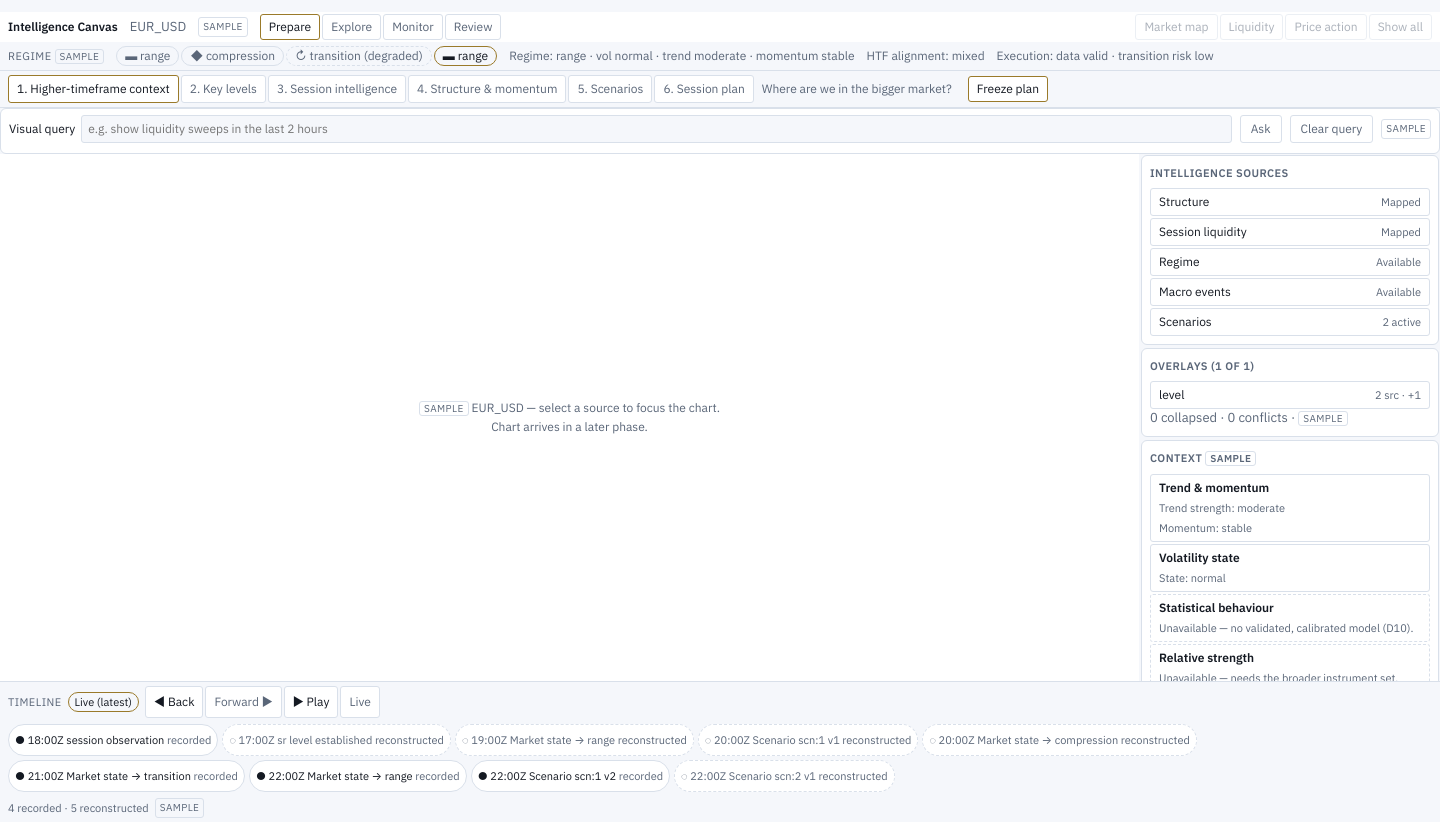
Scenario: F20 panel + Canvas › Canvas mounts it in every mode with the 'sample' cue
Click the button "Prepare".
click(290, 27)  # box [260, 14, 320, 40]
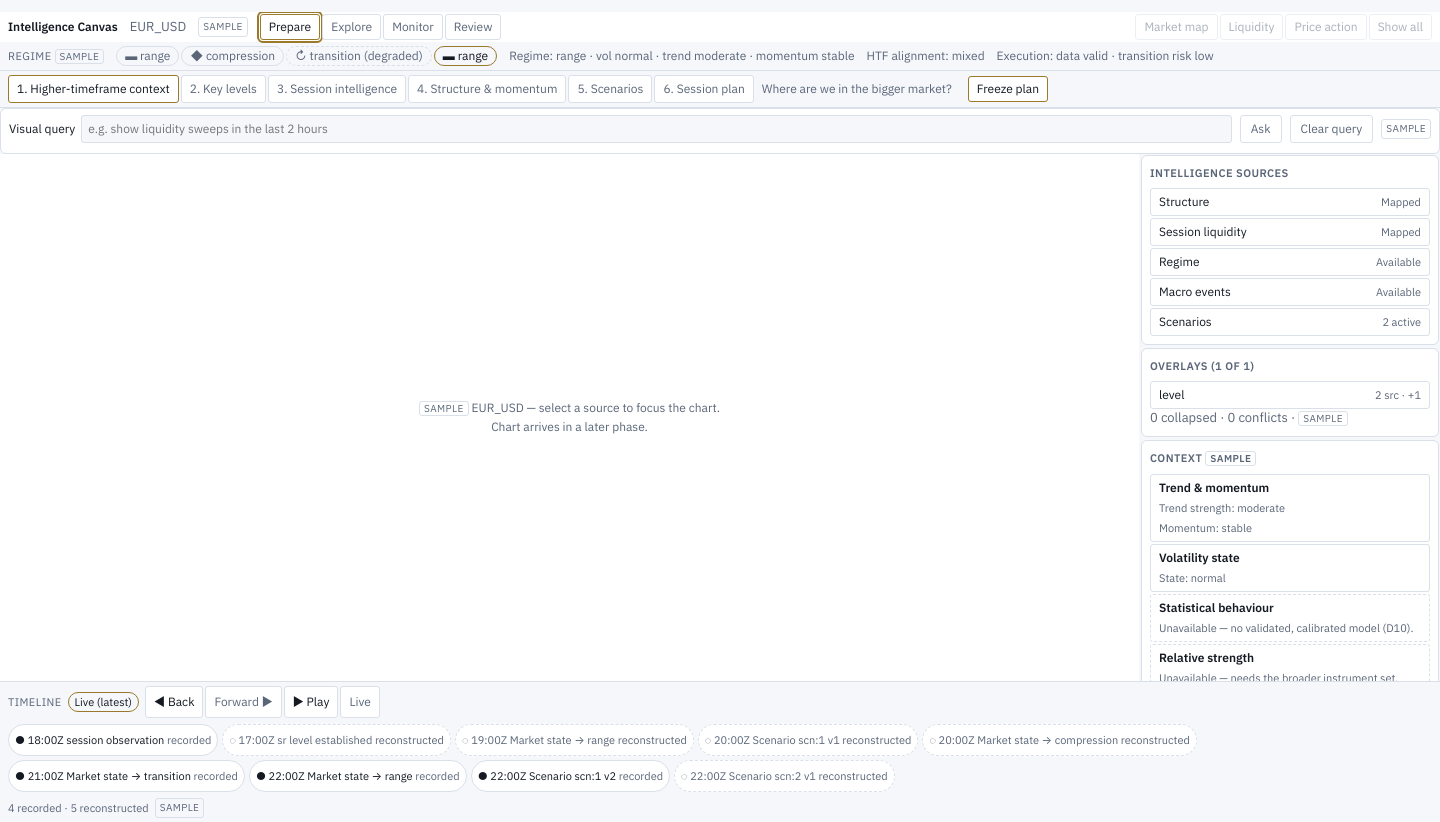
Click the button "Explore".
click(352, 27)  # box [322, 14, 381, 40]
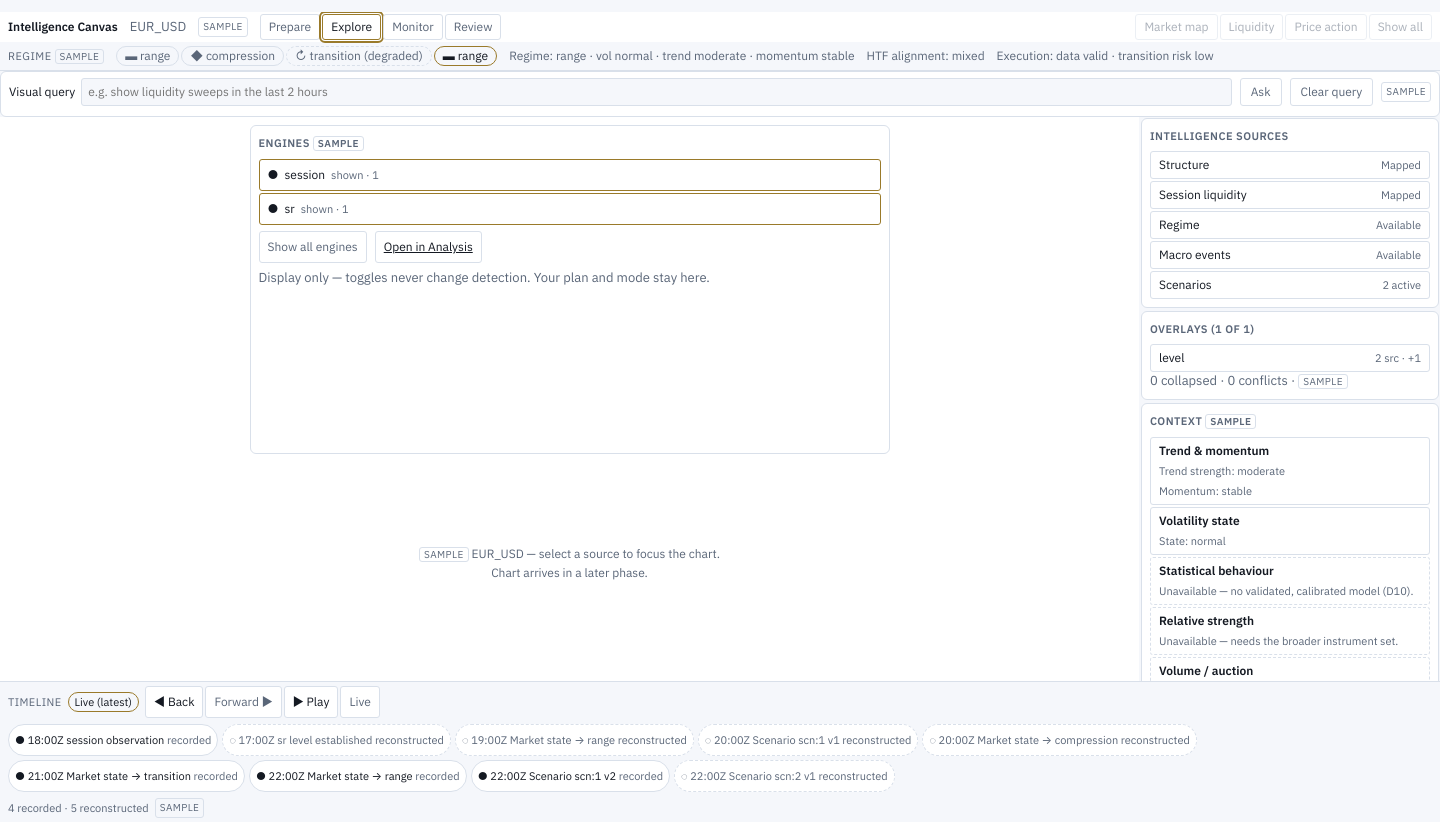
Click the button "Monitor".
click(413, 27)  # box [383, 14, 443, 40]
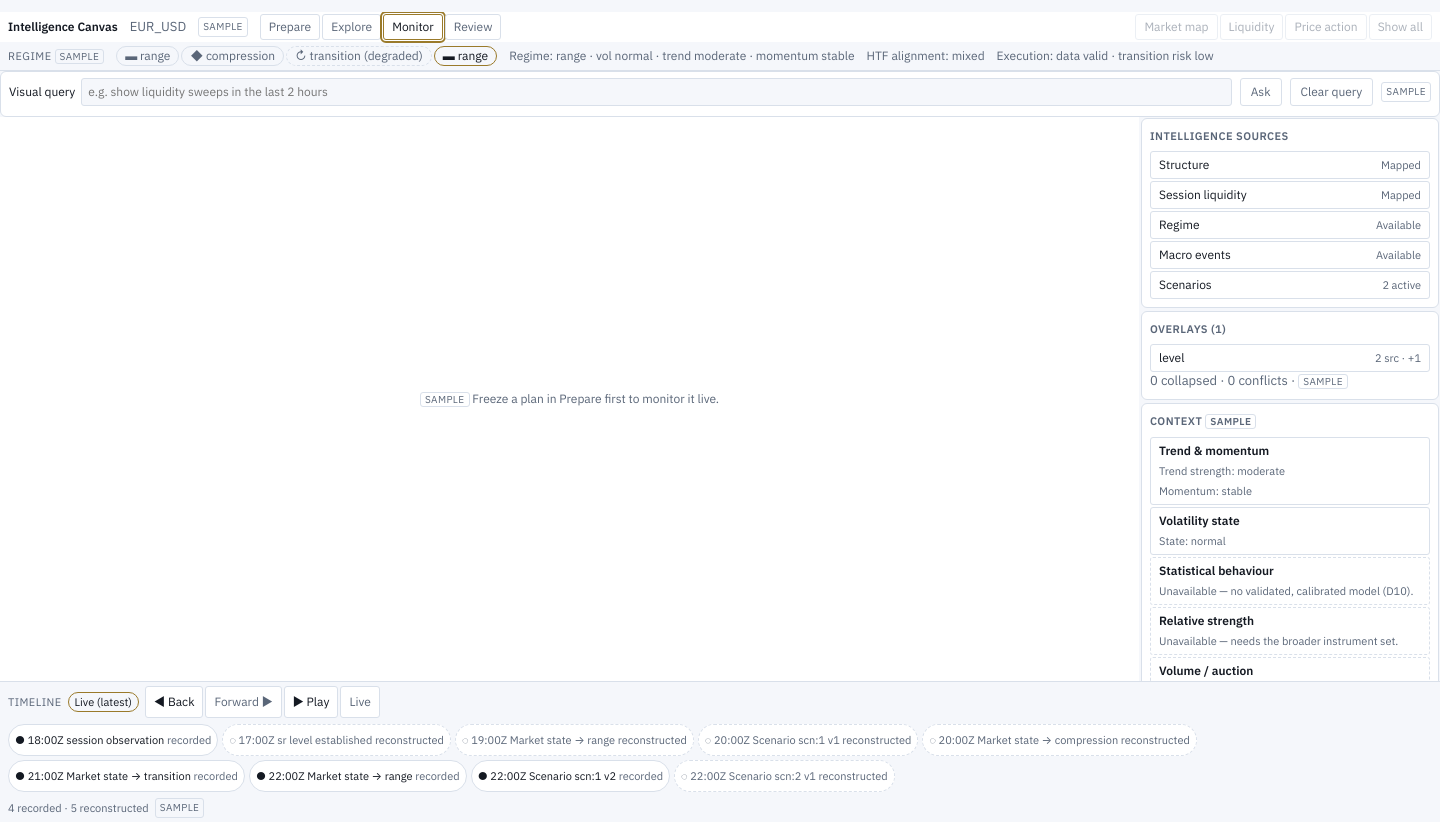
Click the button "Review".
click(473, 27)  # box [445, 14, 501, 40]
(page scrolled)
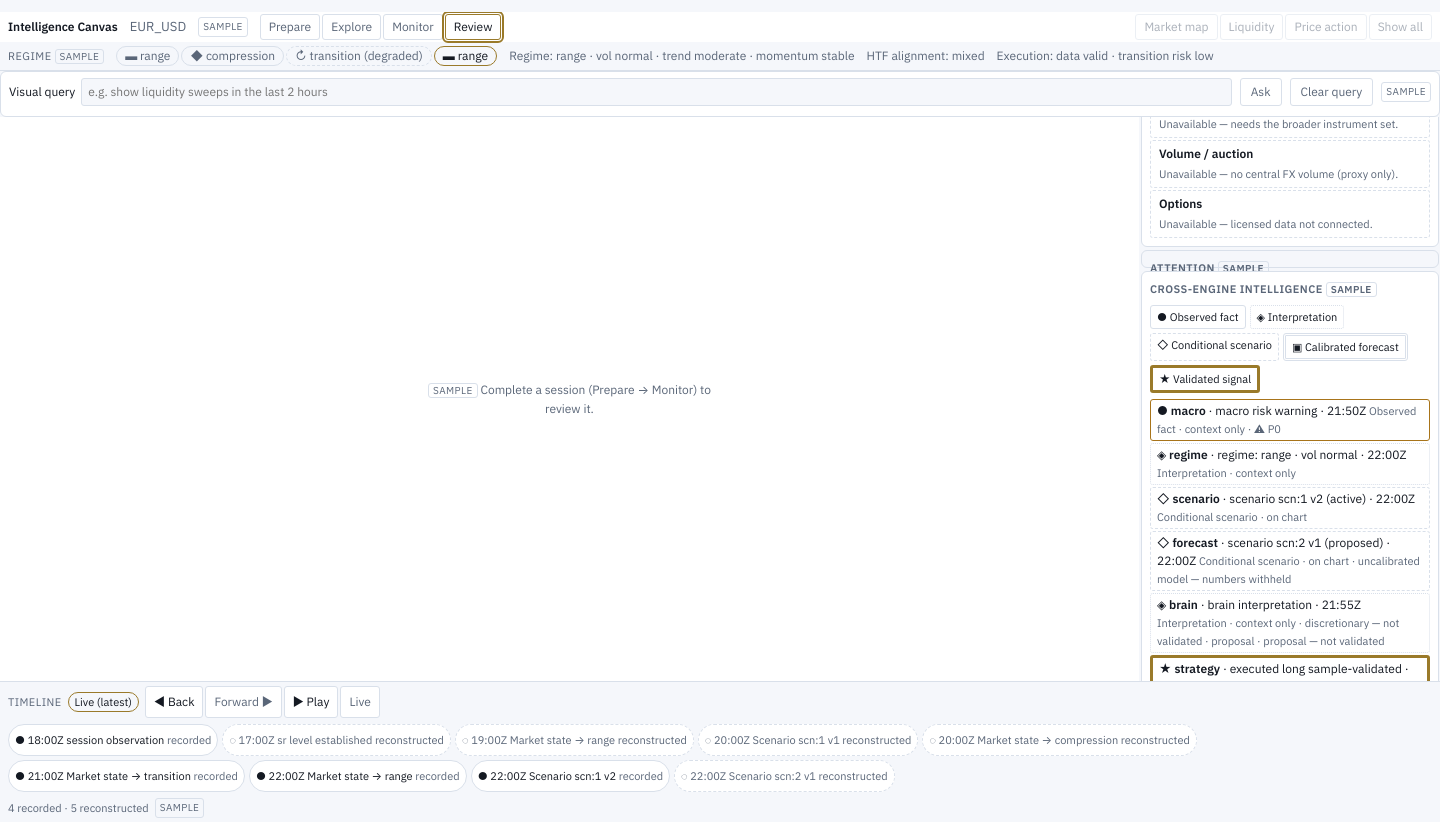
Expected: the text "sample" next to "Attention" is shown, [1223, 262, 1264, 275]
Expected: the element "What matters" is shown, [1150, 292, 1430, 506]
